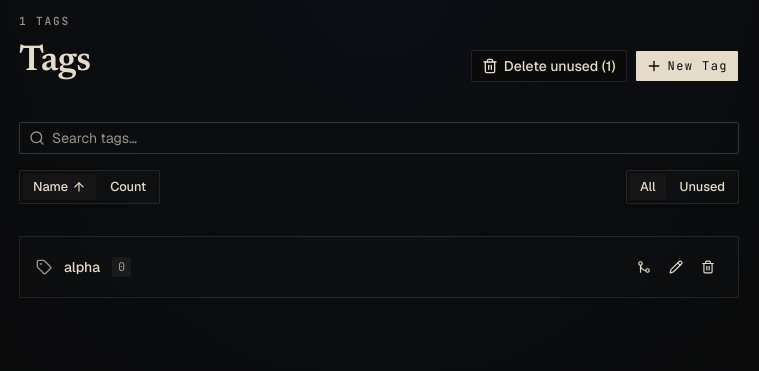
Scenario: TagsPage › shows a no-matches state when search finds nothing
This screenshot has width=759, height=371.
Type "zzz" into the search field with test id "tags-search" at point(379, 138), box [19,122,739,154]
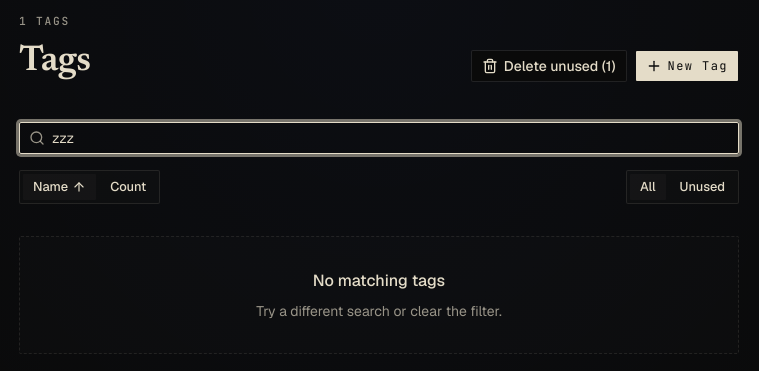
Now the element with test id "tags-no-matches" is shown, box [19,236,739,354]
